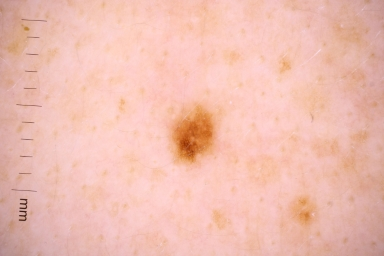melanoma: (171, 106, 216, 167), (294, 196, 316, 226)
